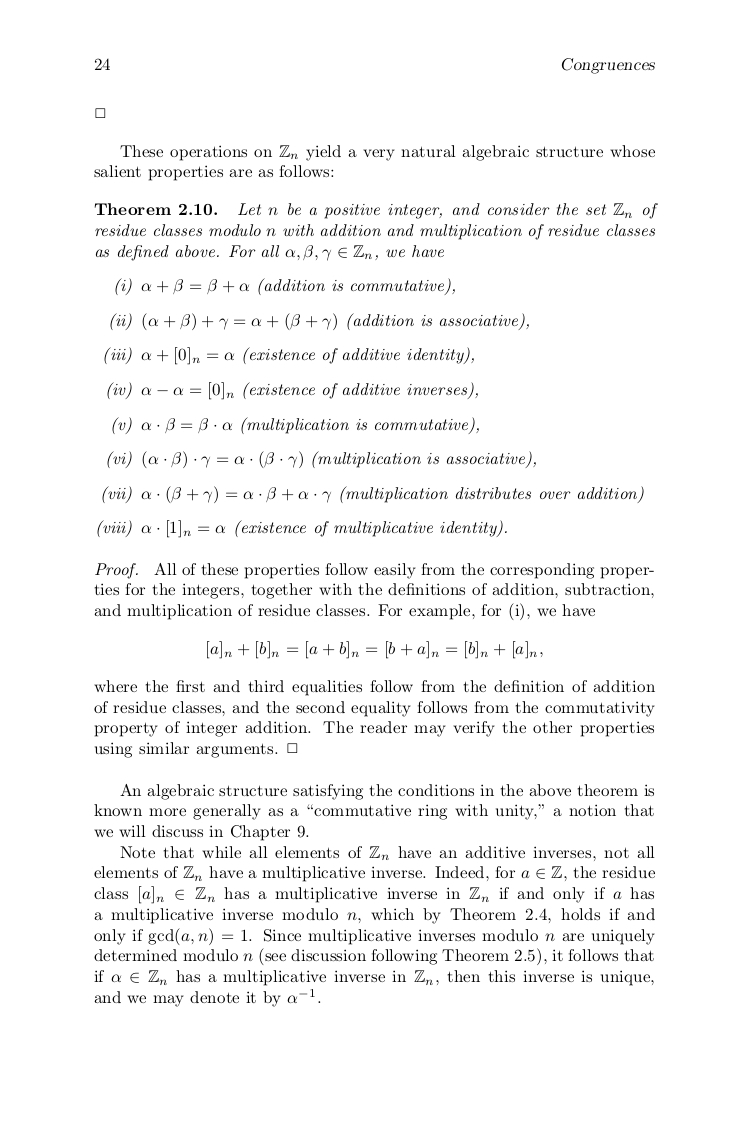formula: (102, 485, 643, 504), (107, 450, 535, 469), (110, 312, 528, 331), (97, 519, 506, 538), (104, 345, 473, 365), (107, 381, 477, 400), (112, 416, 478, 435), (115, 277, 454, 296), (207, 640, 542, 659)
